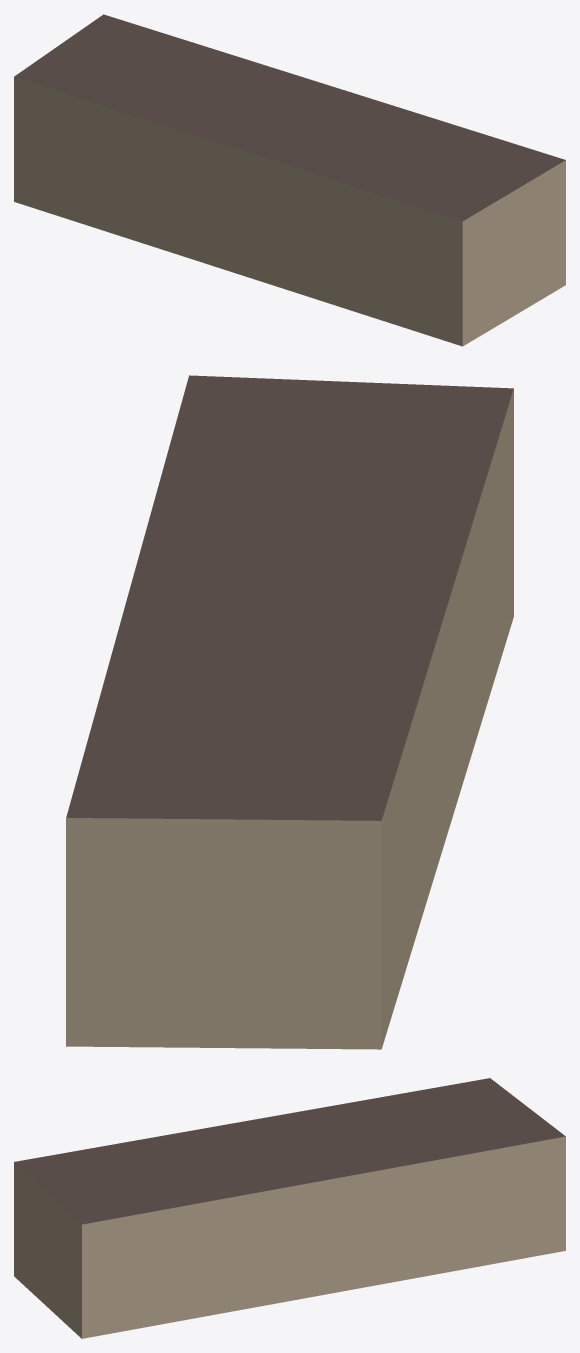
3 views of the same model, one above another, from view 1: azimuth 30°, elevation 25°; view 2: azimuth 150°, elevation 25°; view 3: azimuth 270°, elevation 25° (orthographic). The views are drawn at different scales.
Visible parts, largest first — view 1: HP-w369238017; view 2: HP-w369238017; view 3: HP-w369238017.
Part boxes in pixels (x1=…): HP-w369238017: x1=14, y1=14, x2=565, y2=346; HP-w369238017: x1=66, y1=375, x2=513, y2=1049; HP-w369238017: x1=14, y1=1078, x2=565, y2=1338.
Size of the model in its own units: 24.75 by 9 by 39.38.
